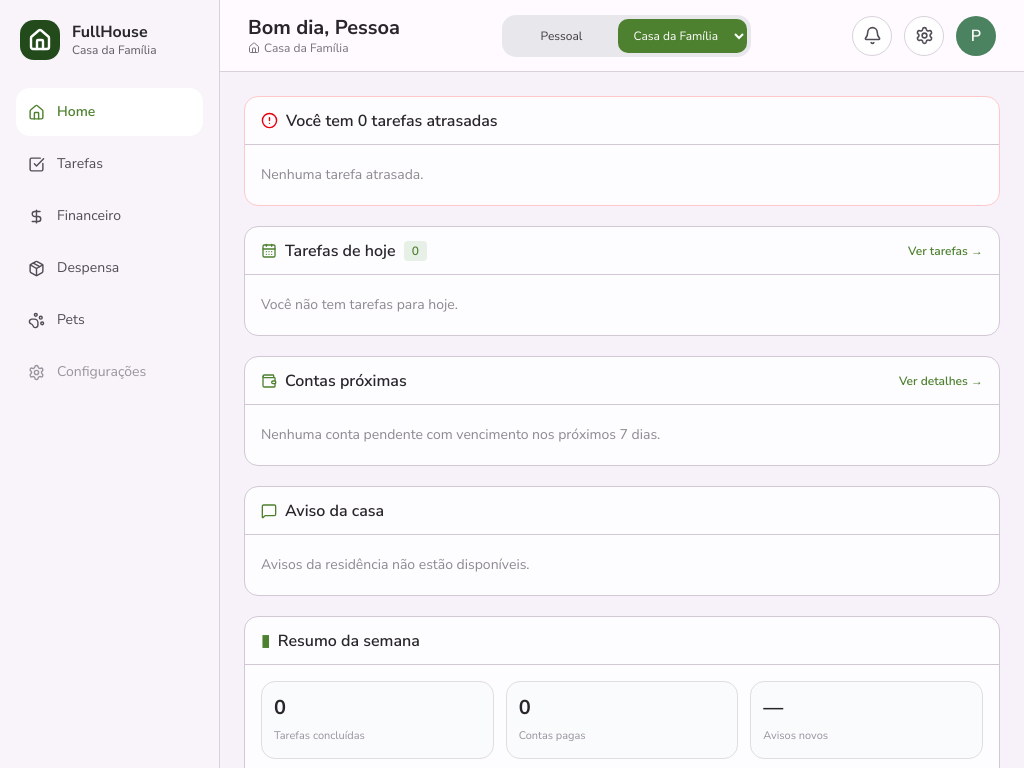
Scenario: HomePage › discards the previous residence data after a new residence query is denied
Select "Casa da Praia" in the dropdown named "Residência": {"x": 682, "y": 36} [618, 18, 746, 52]
(page scrolled)
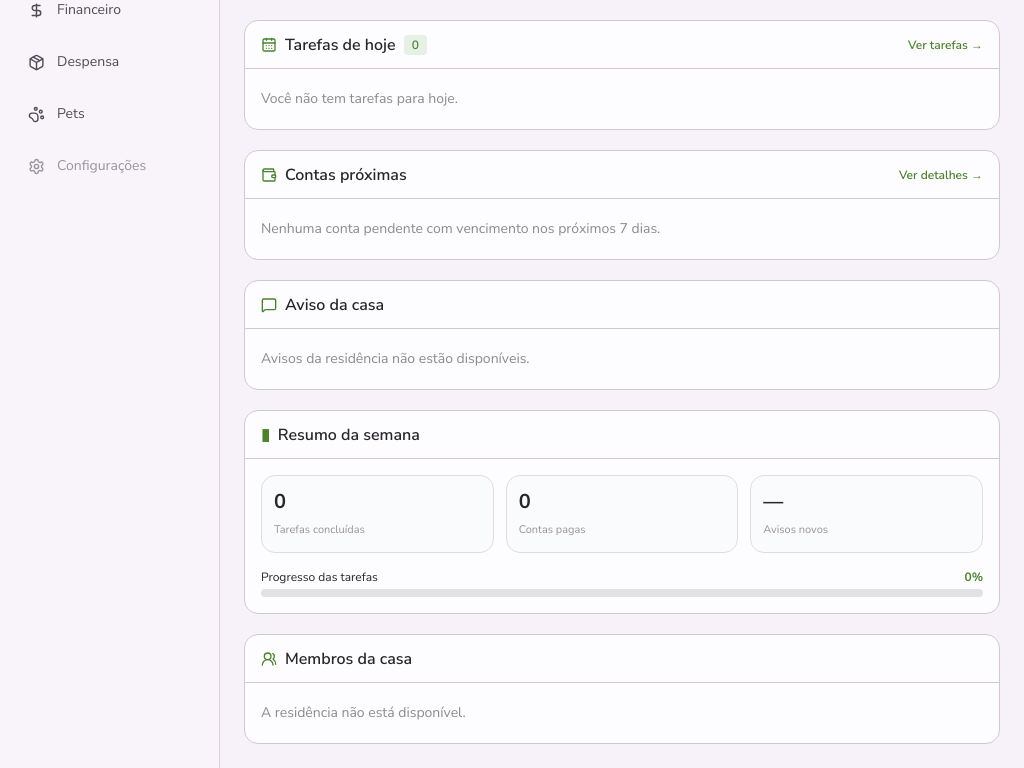
expect the text "A residência não está disponível." is shown: met, box [261, 703, 466, 722]
